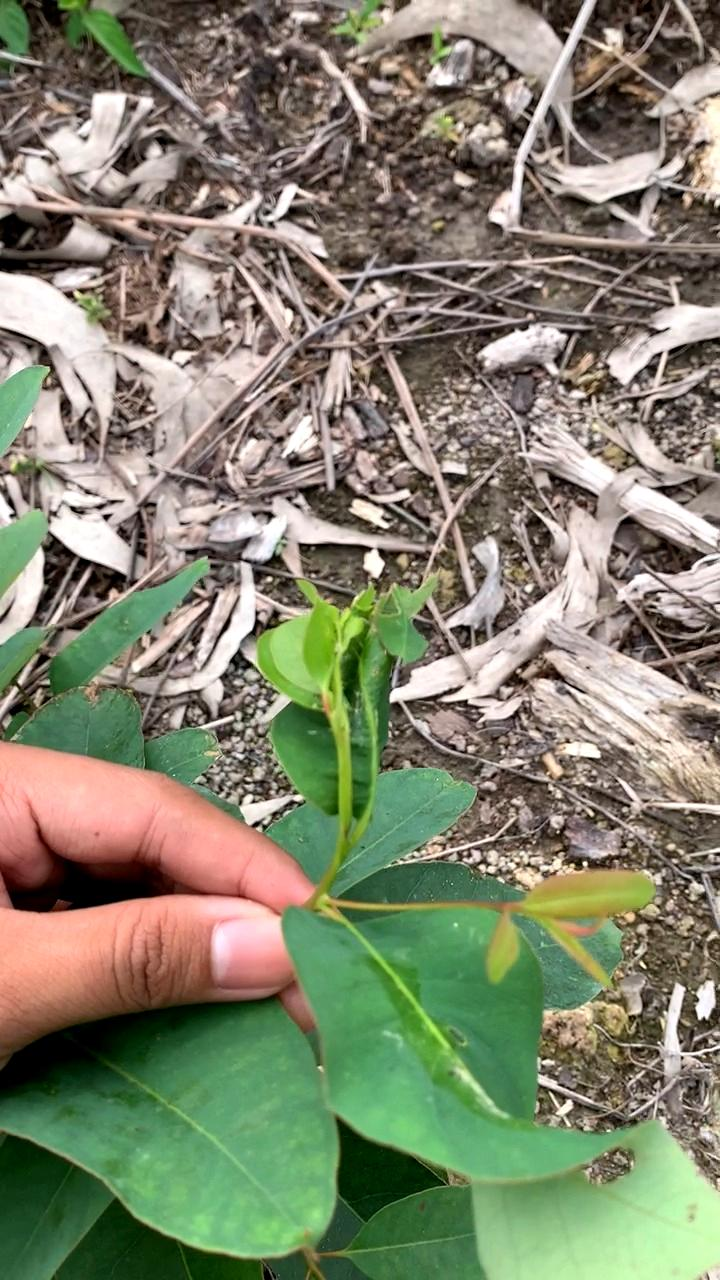Leaf Roller - Leaf: (247, 573, 443, 832)
